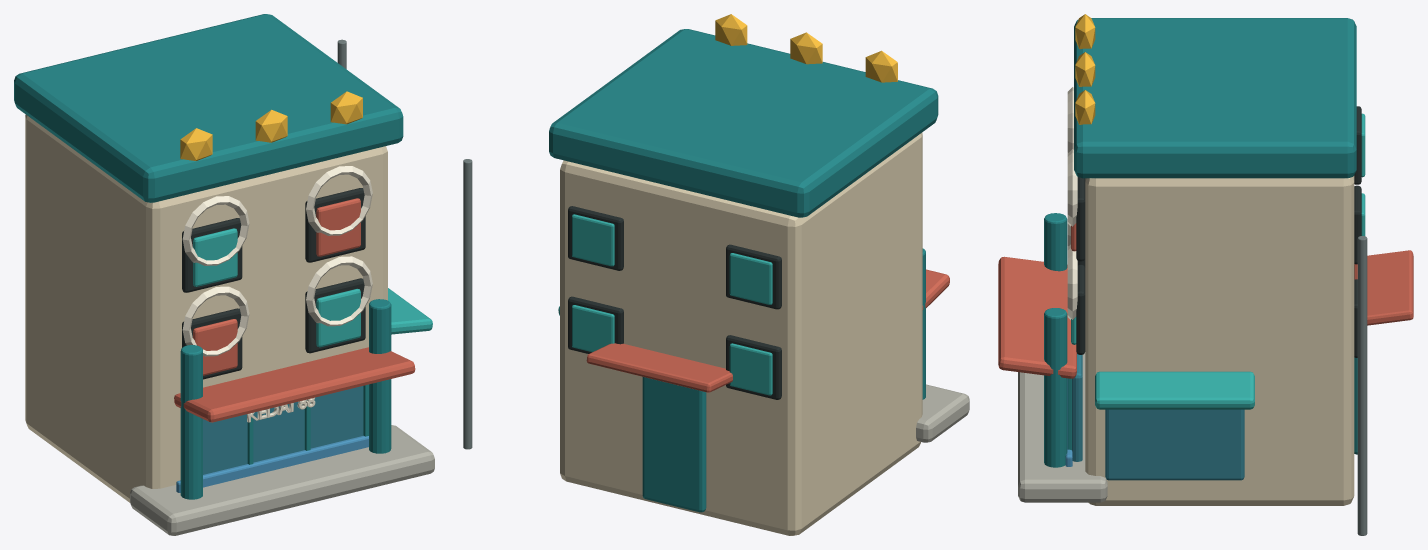
Rendered from shophouse-v2.glb.
3 renders of one model, left to right at view 1: azimuth 30°, elevation 25°; view 2: azimuth 150°, elevation 25°; view 3: azimuth 270°, elevation 25°, orthographic. The views are drawn at different scales.
Parts seen in each view (by area): view 1: HERITAGE SHOPHOUSE · Chalk; view 2: HERITAGE SHOPHOUSE · Chalk; view 3: HERITAGE SHOPHOUSE · Chalk.
Boxes of the visible parts, x1,y1,x2,y2 form: HERITAGE SHOPHOUSE · Chalk: [14, 14, 434, 535]; HERITAGE SHOPHOUSE · Chalk: [463, 14, 969, 535]; HERITAGE SHOPHOUSE · Chalk: [998, 14, 1413, 535].
Bounding box in the file's own units: 4.55 × 4.89 × 4.63.
1 material, 1 textured.
